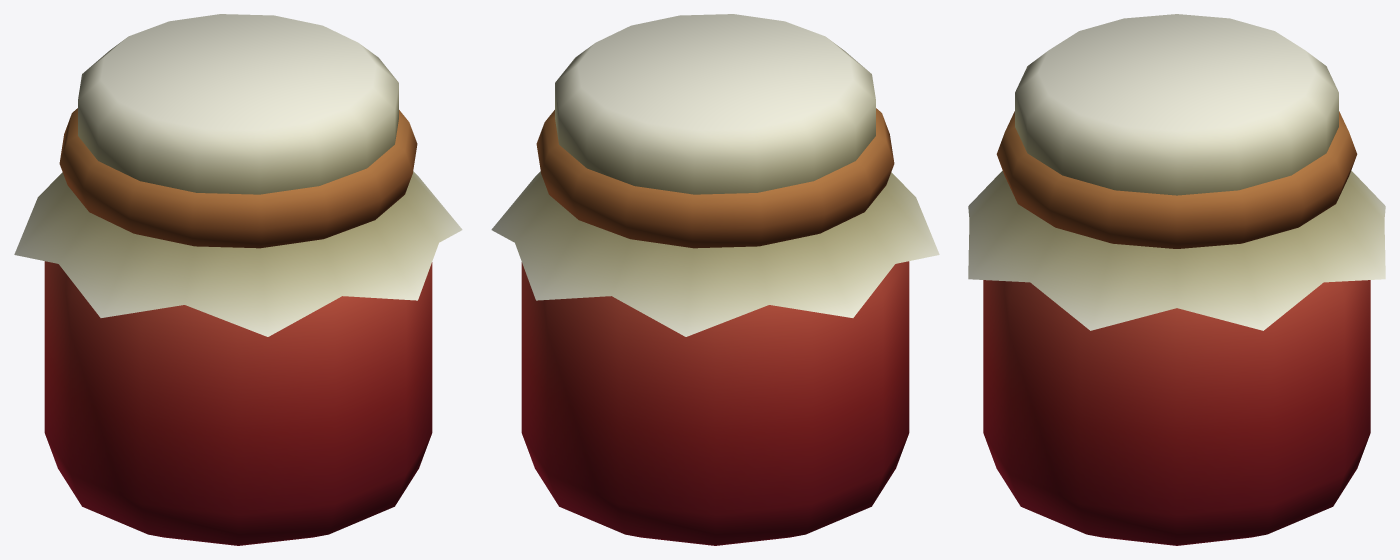
The model's file is Jam_Round_04.glb.
The picture shows the model from 3 angles, left to right: view 1: azimuth 30°, elevation 25°; view 2: azimuth 150°, elevation 25°; view 3: azimuth 270°, elevation 25°; orthographic projection.
Visible parts, largest first — view 1: Jam_Round_04; view 2: Jam_Round_04; view 3: Jam_Round_04.
Part boxes in pixels (x1,y1,x2,y2): Jam_Round_04: (14, 14, 462, 545); Jam_Round_04: (491, 14, 939, 545); Jam_Round_04: (968, 14, 1385, 545).
Size of the model in its own units: 0.2283 by 0.2477 by 0.2283.
Materials: 1 (1 with a texture image).
